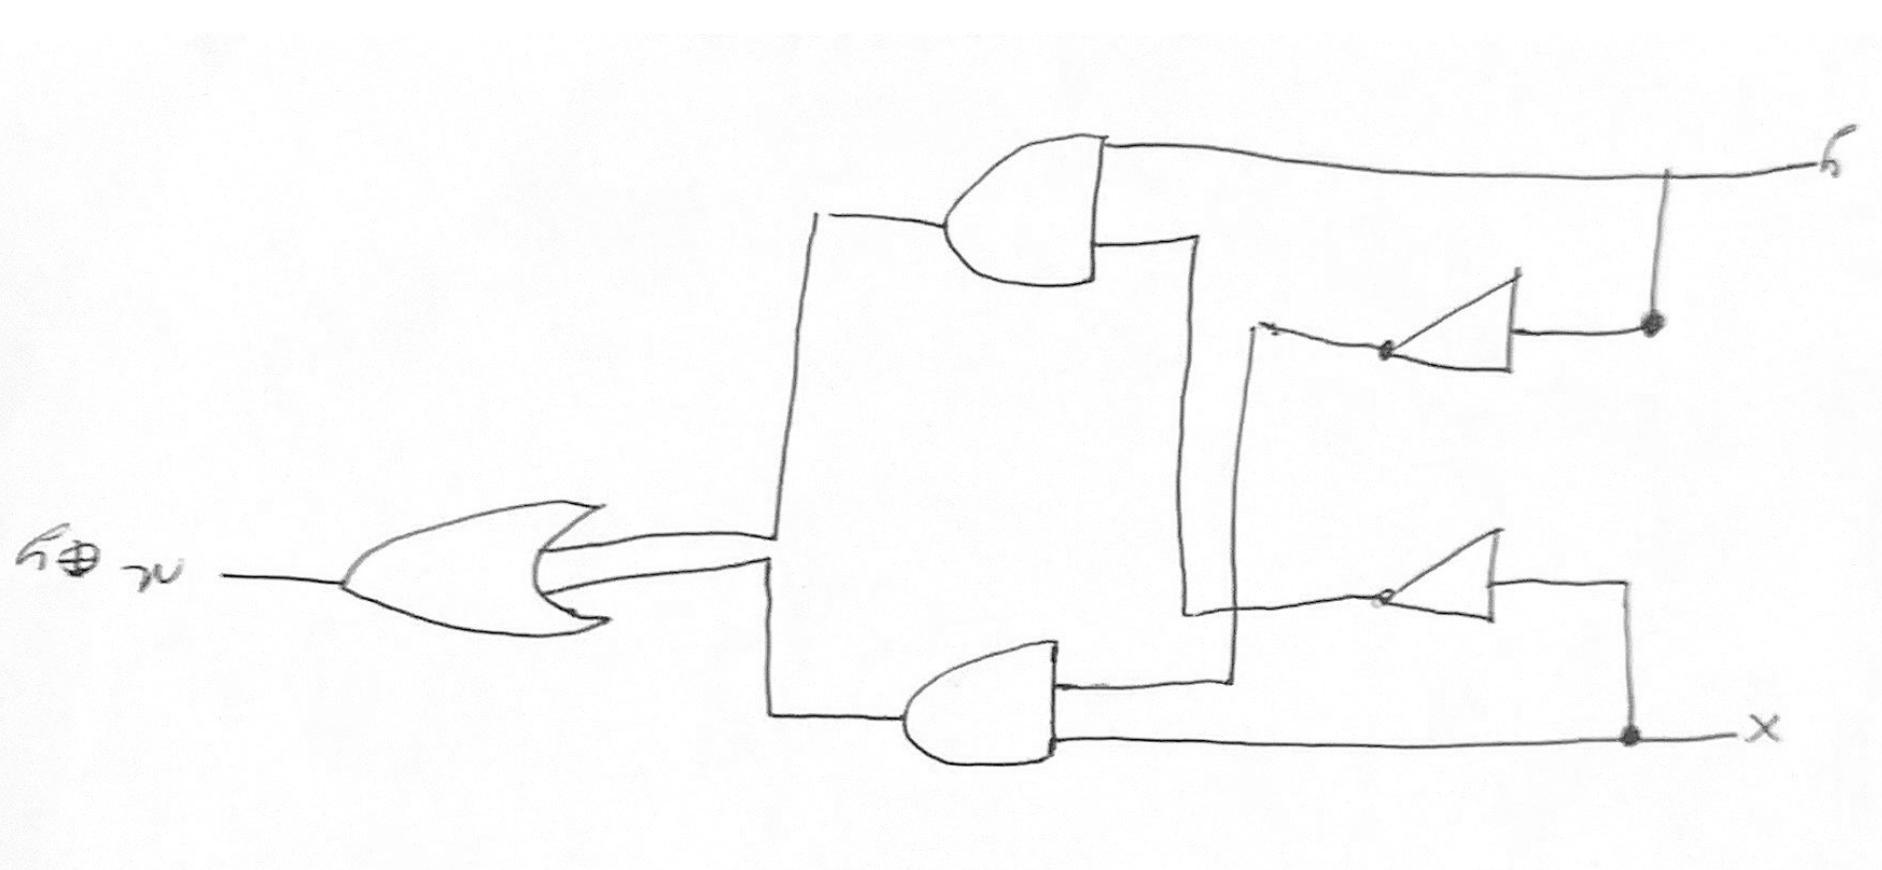AND: (916, 102, 1135, 313), (868, 634, 1095, 790)
NOT: (1350, 260, 1550, 416), (1338, 516, 1539, 644)
OR: (308, 480, 649, 704)
